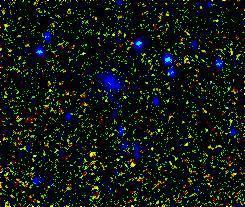star: (120, 152, 150, 182)
